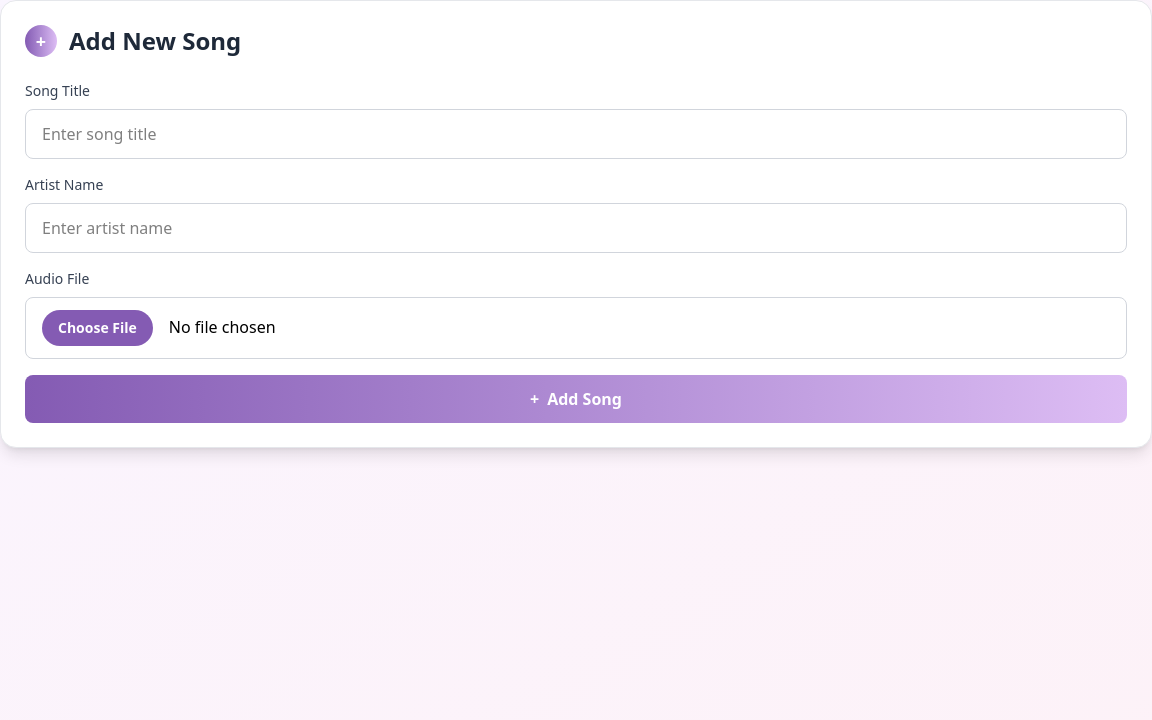
Test case: AddSongForm › rejects a submission without an audio file
Type "Test Song" into the field with placeholder "Enter song title" at (576, 134), box x1=25 y1=109 x2=1127 y2=159
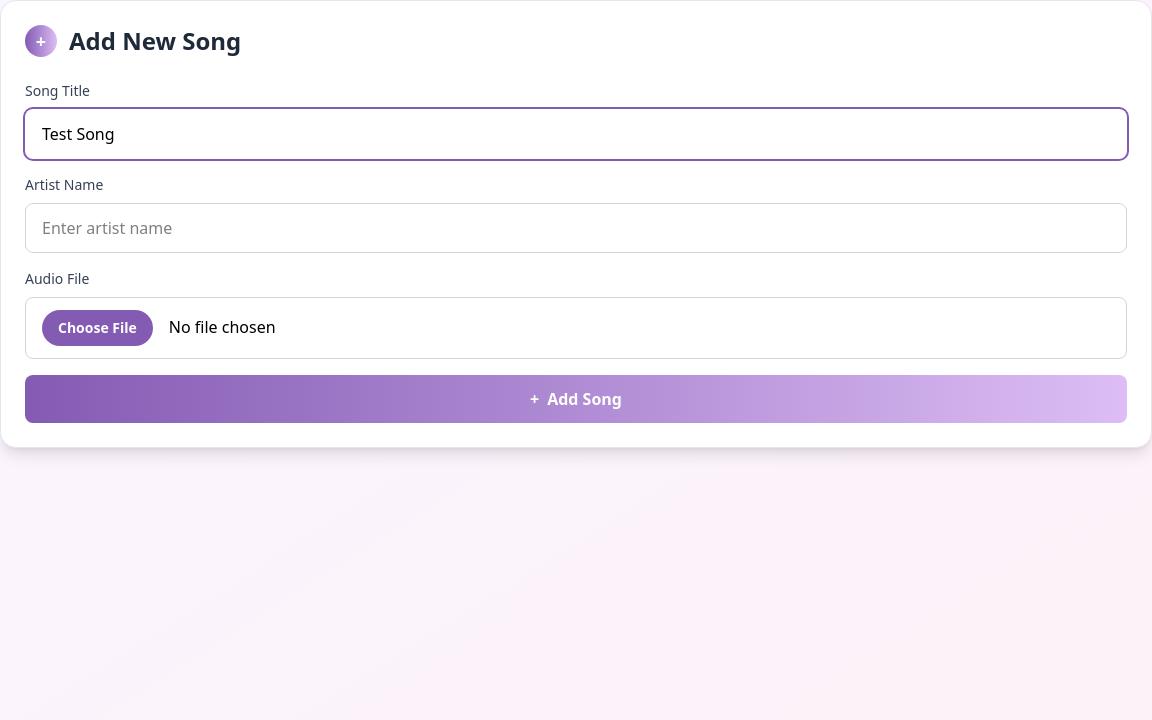
Type "Test Artist" into the field with placeholder "Enter artist name" at (576, 228), box x1=25 y1=203 x2=1127 y2=253
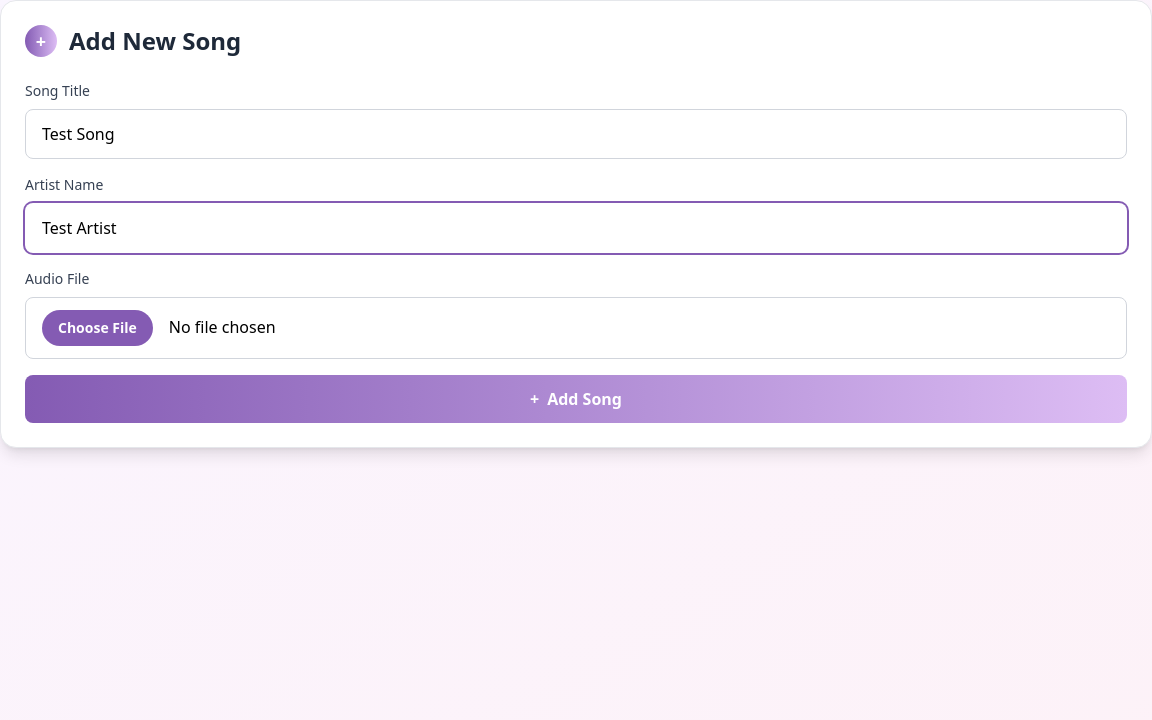
Click the button "+ Add Song" at (576, 399), box x1=25 y1=375 x2=1127 y2=423
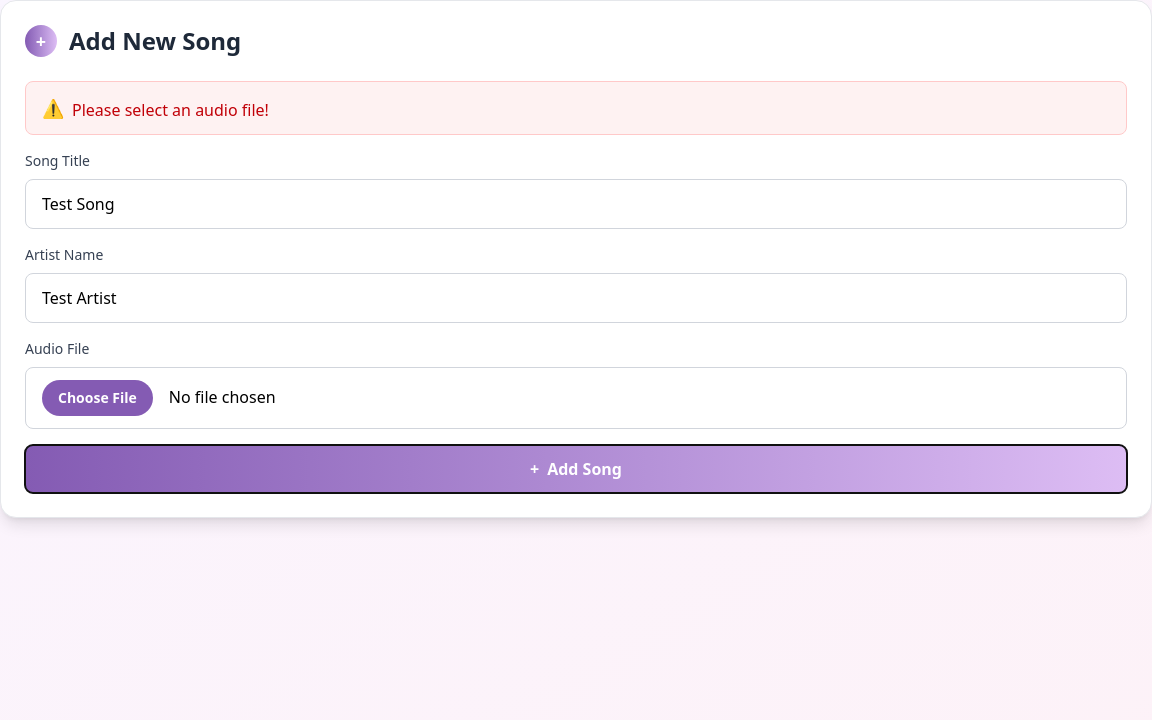
Expected: the text "Please select an audio file!" is shown, x1=72 y1=98 x2=269 y2=122
